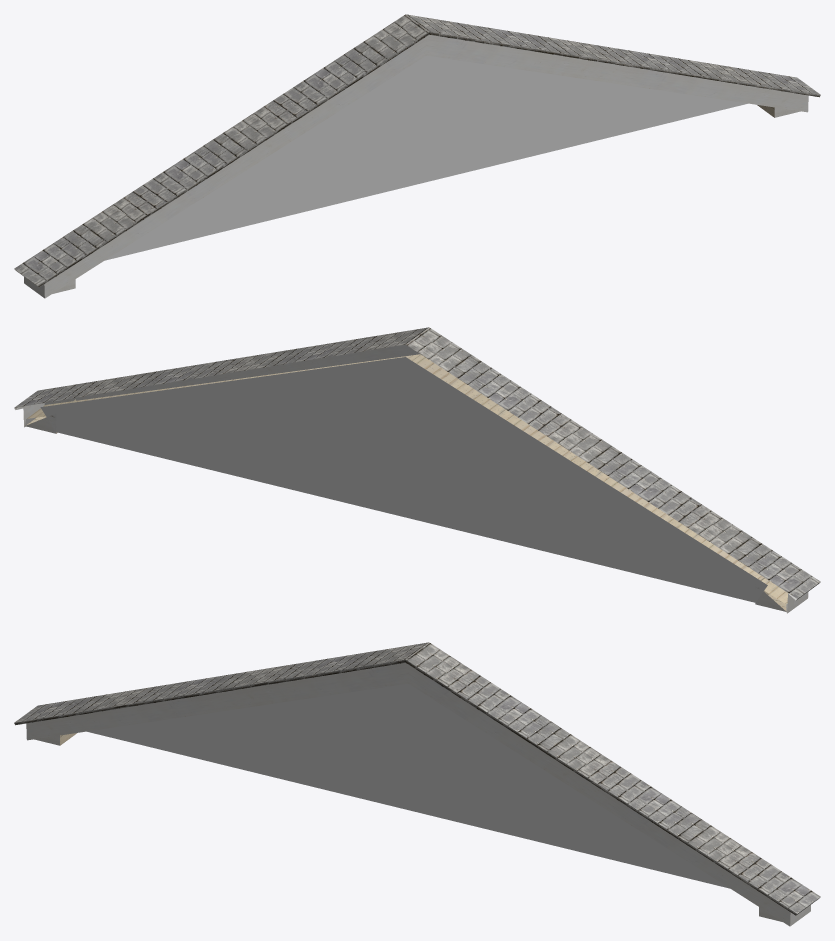
The model's file is RoofLow_End_7x_COL.FBX.
3 views of the same model, one above another, from view 1: azimuth 30°, elevation 25°; view 2: azimuth 150°, elevation 25°; view 3: azimuth 330°, elevation 25° (orthographic).
Visible parts, largest first — view 1: RoofLow_End_7x_COL; view 2: RoofLow_End_7x_COL; view 3: RoofLow_End_7x_COL.
Boxes of the visible parts, x1,y1,x2,y2 form: RoofLow_End_7x_COL: (14, 14, 820, 298); RoofLow_End_7x_COL: (14, 327, 820, 613); RoofLow_End_7x_COL: (14, 642, 820, 926).
Bounding box in the file's own units: 784 × 168 × 40.91.
